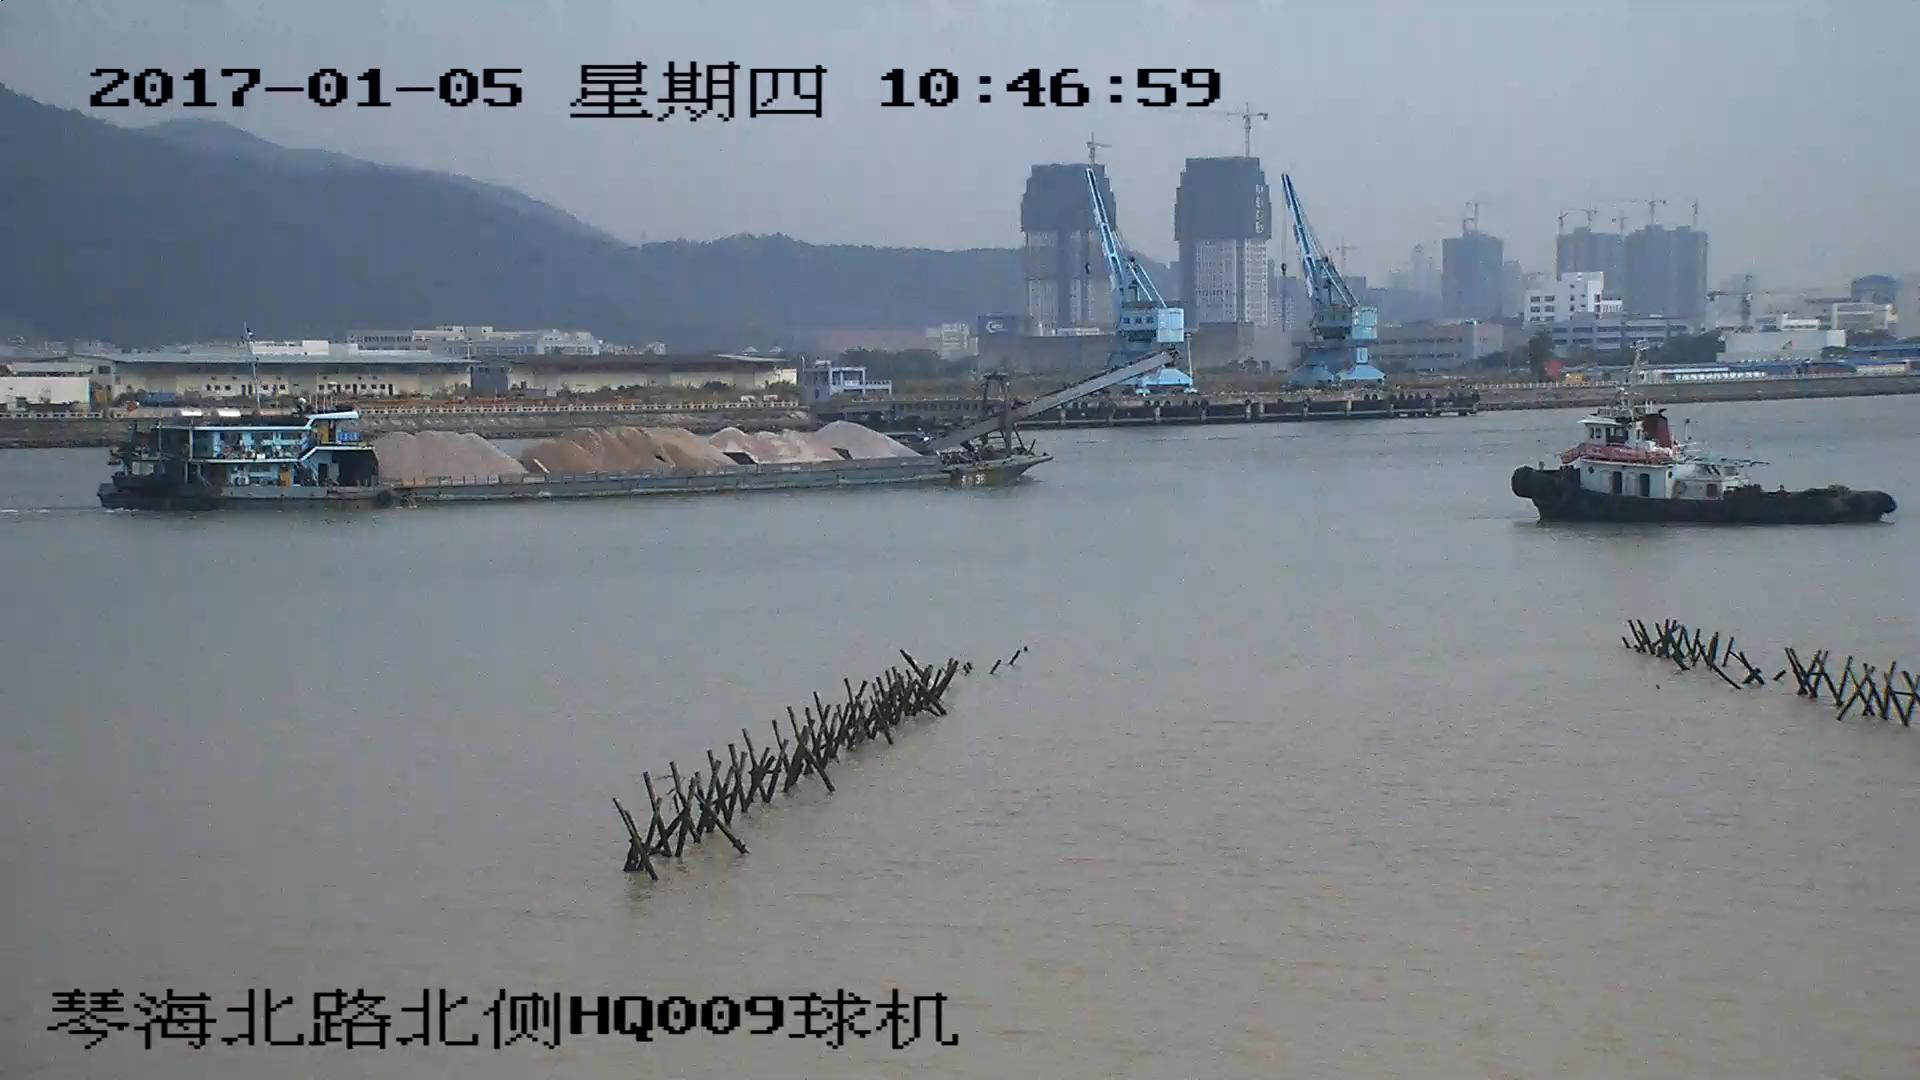ore carrier: (99, 355, 1170, 516)
